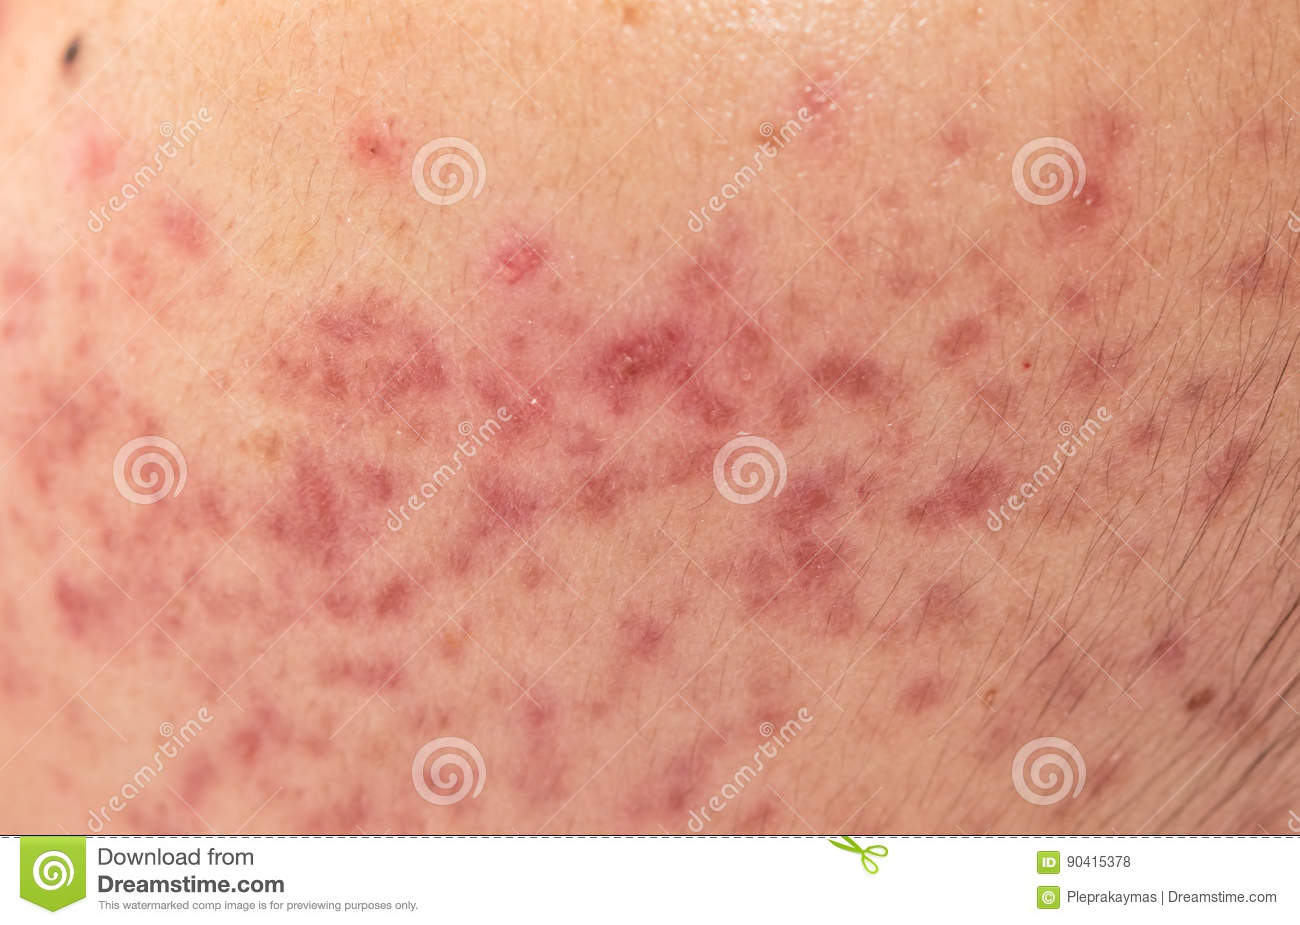acene: (222, 242, 1043, 740)
